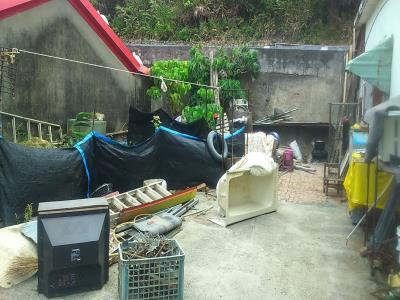box: (344, 152, 396, 210)
tub: (214, 162, 283, 227)
